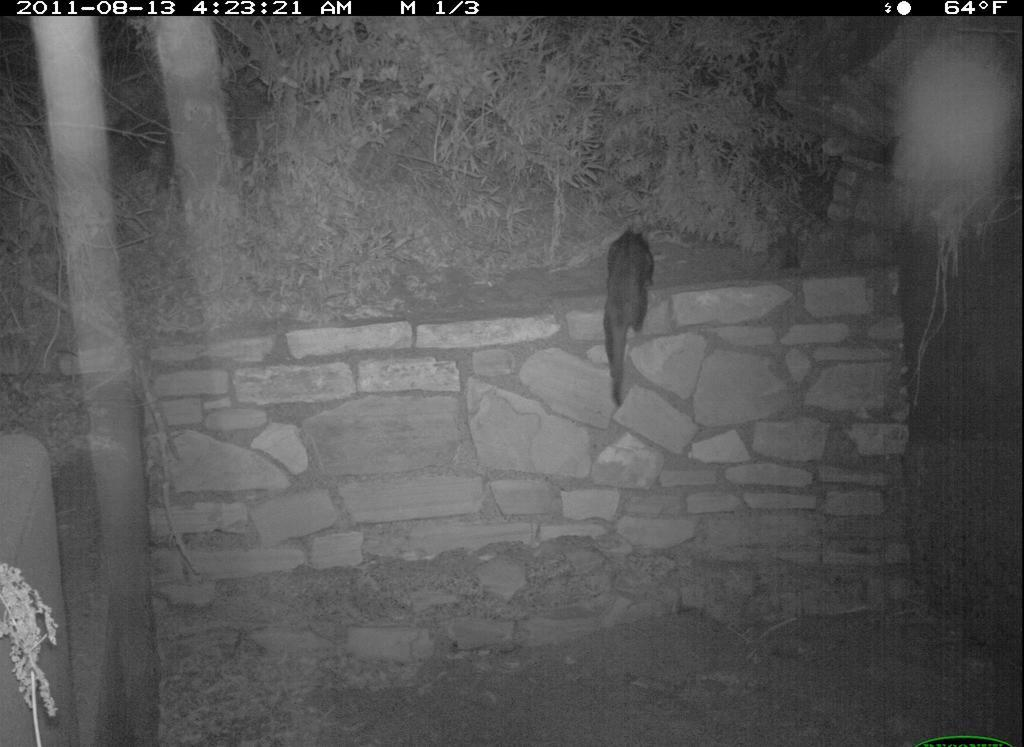cat: (594, 218, 665, 410)
